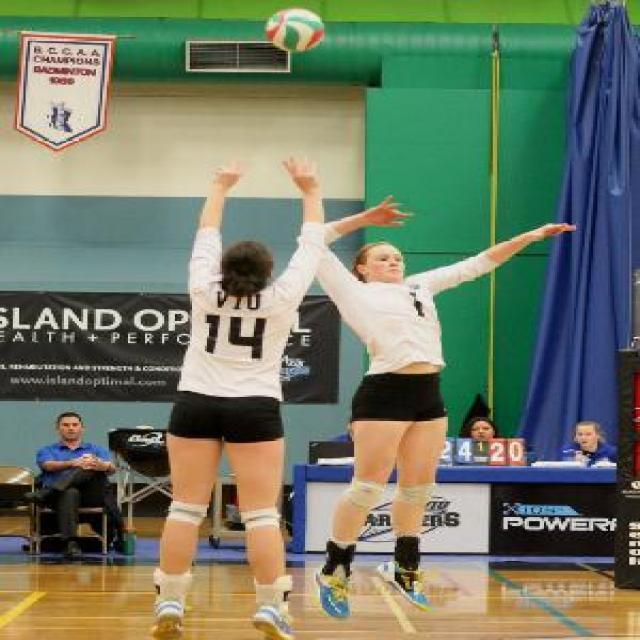volleyball: (265, 7, 324, 51)
